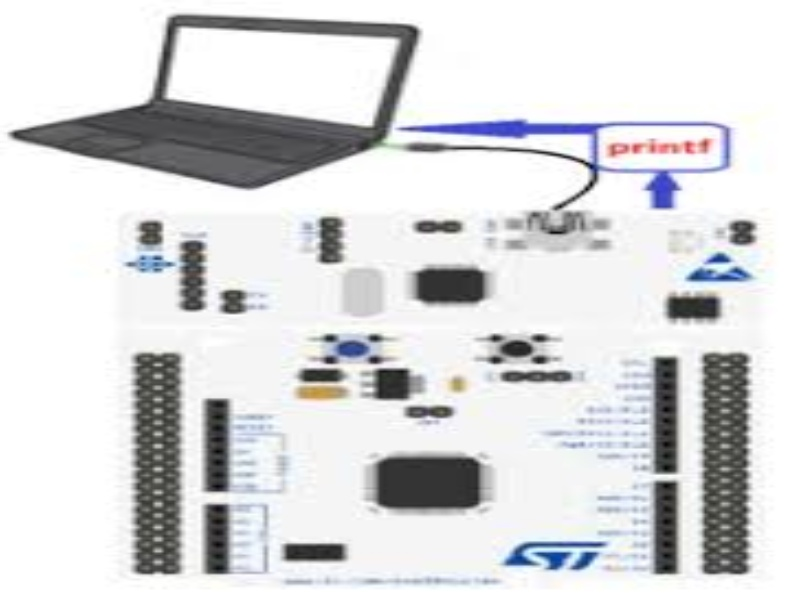stmnucleo: (95, 193, 769, 574)
